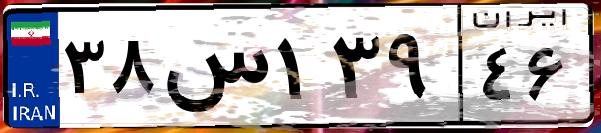1: (270, 28, 330, 110)
3: (330, 28, 385, 110), (57, 26, 110, 100)
4: (475, 38, 525, 113)
6: (525, 38, 570, 115)
8: (110, 28, 158, 98)
9: (385, 28, 445, 110)
س: (158, 20, 270, 120)
